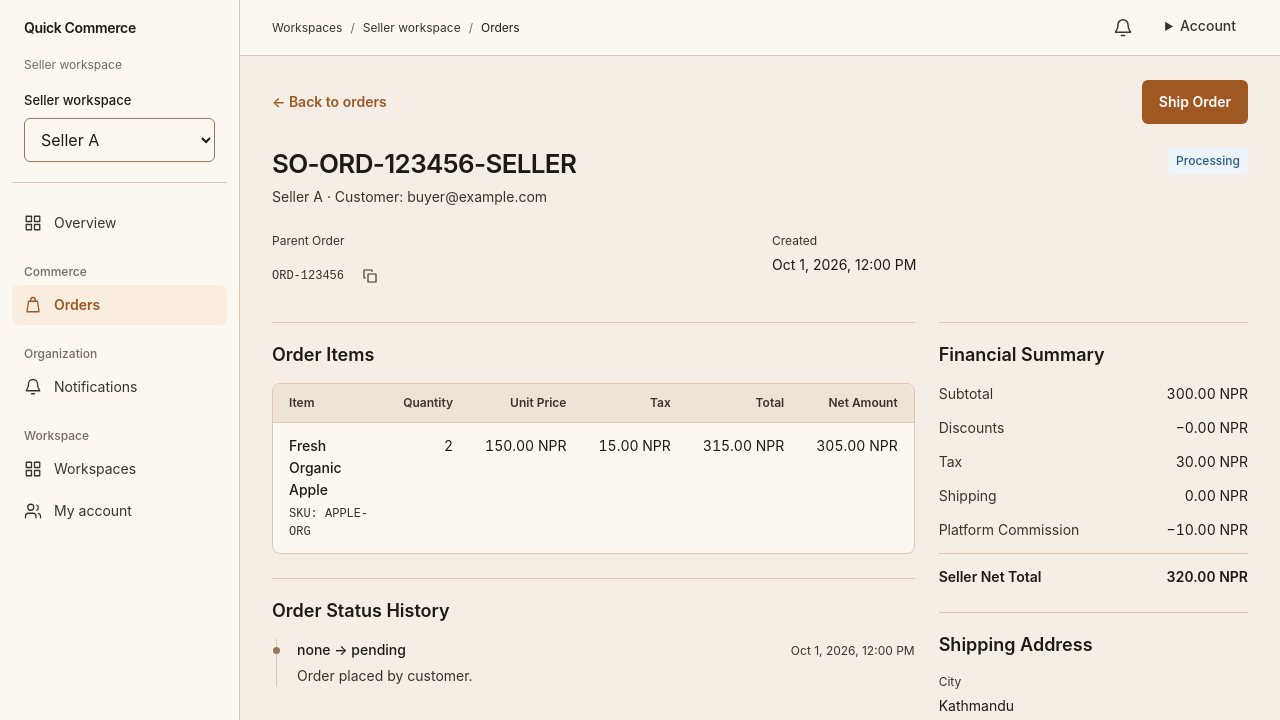
Test: Orders UI and permissions › allows shipping an order with carrier and tracking
Click the button "Ship Order" at (1195, 102), box [1142,80,1248,124]
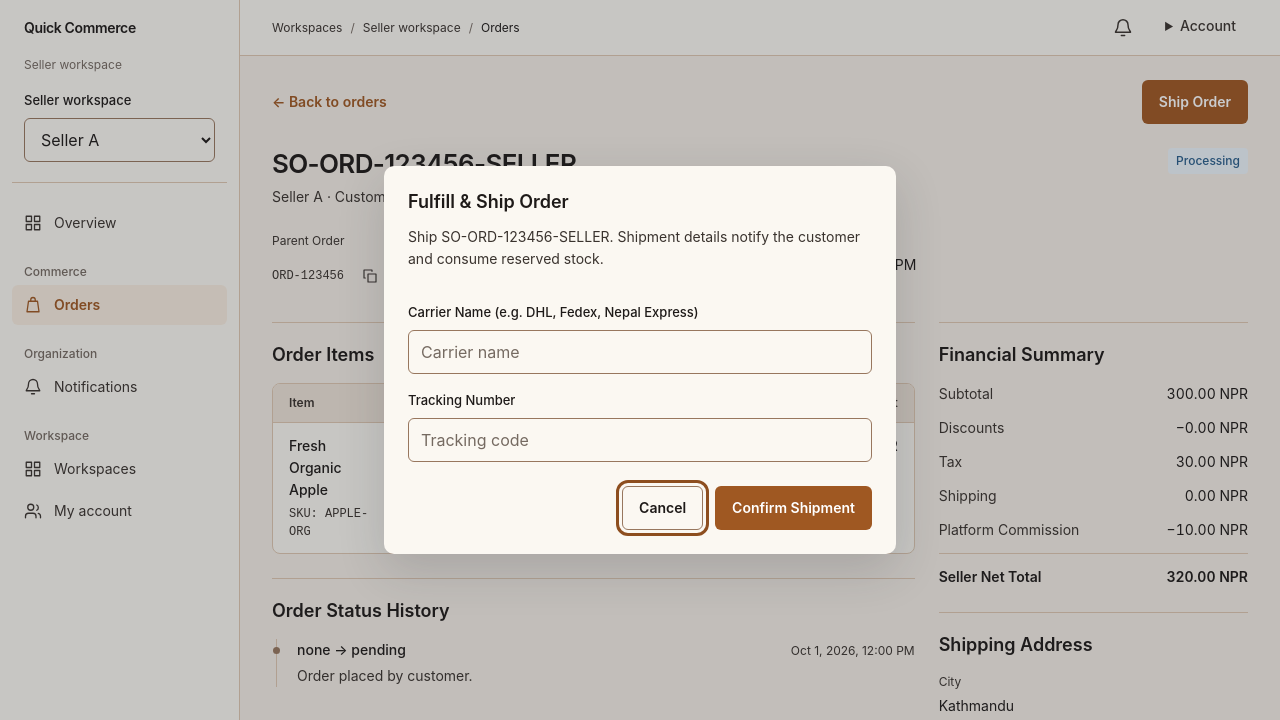
expect the heading "Fulfill & Ship Order" is shown: met, box [408,191,569,212]
Type "DHL Express" into the field with placeholder "Carrier Name" at (640, 352), box [408,330,872,374]
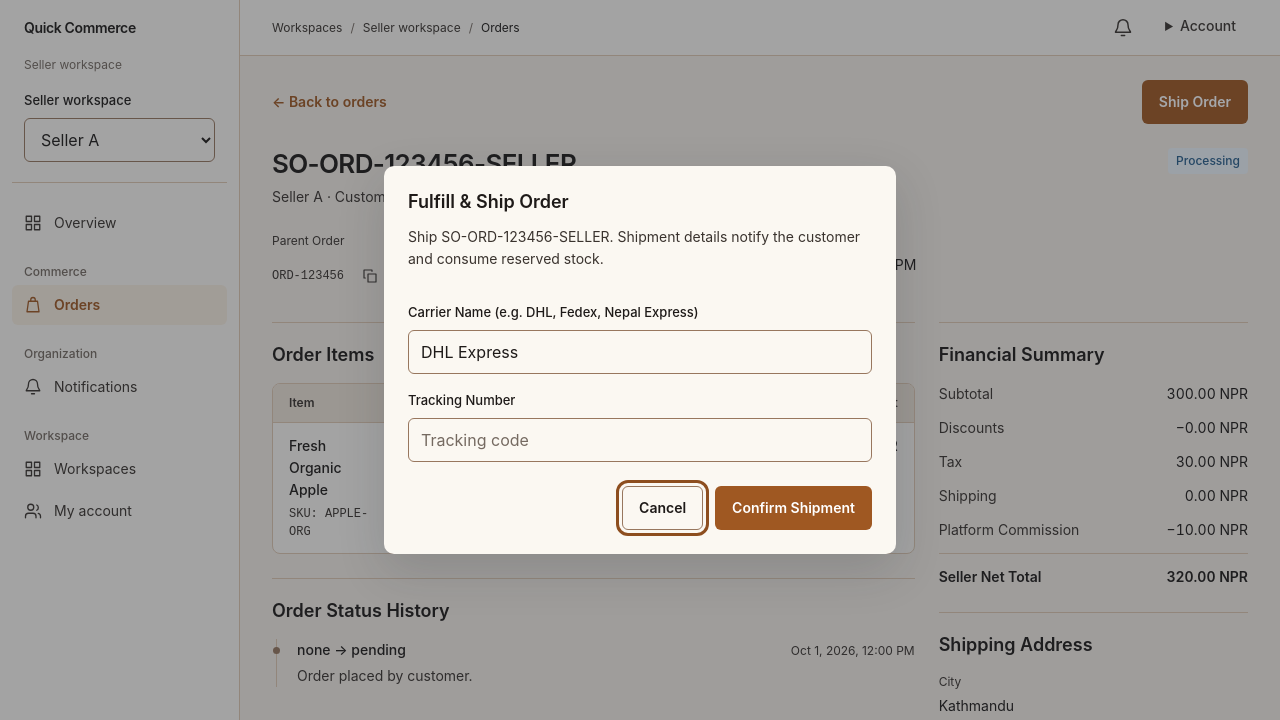
Type "DHL-987654" into the field with placeholder "Tracking code" at (640, 440), box [408,418,872,462]
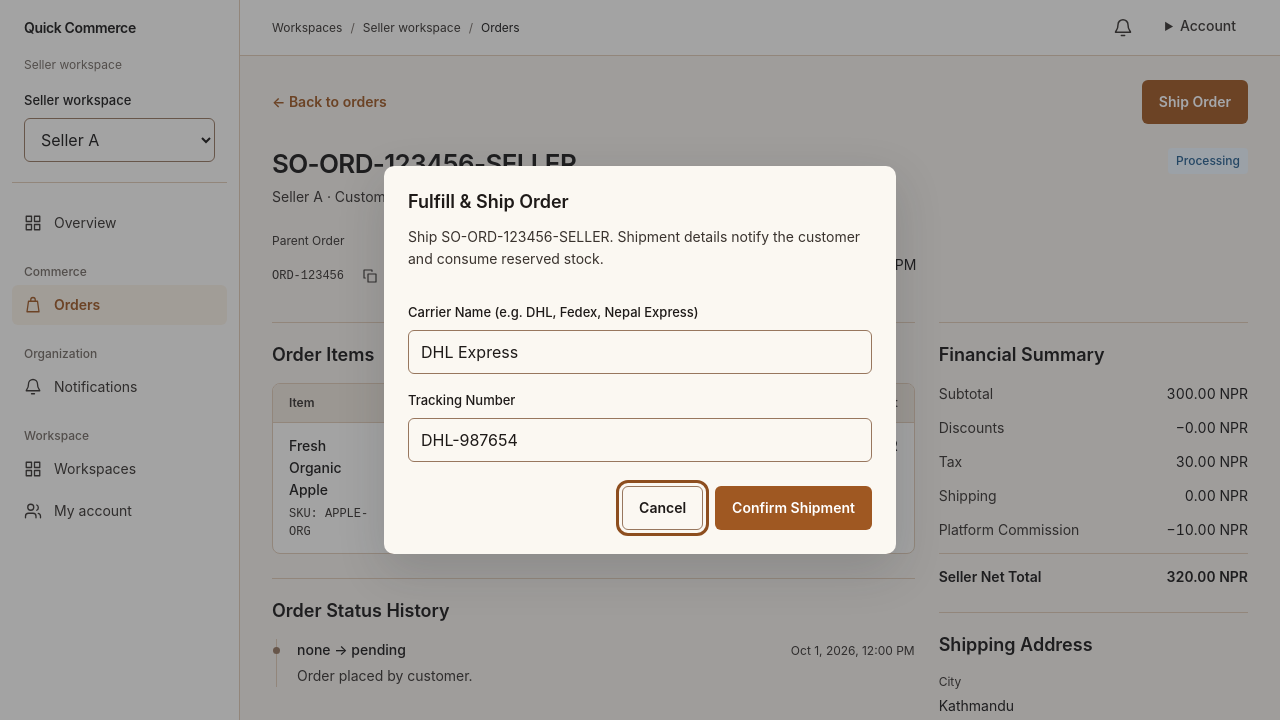
Click the button "Confirm Shipment" at (794, 508), box [715,486,872,530]
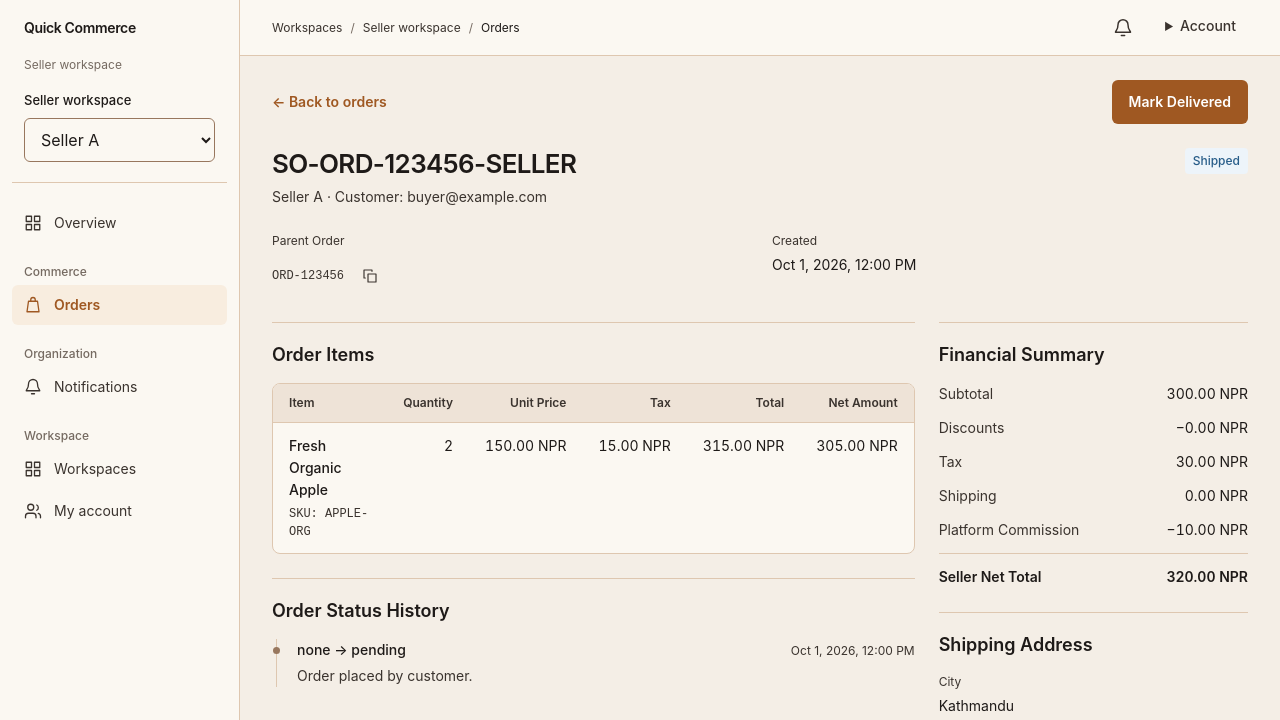
expect the button "Mark Delivered" is shown: met, box [1112,80,1248,124]
